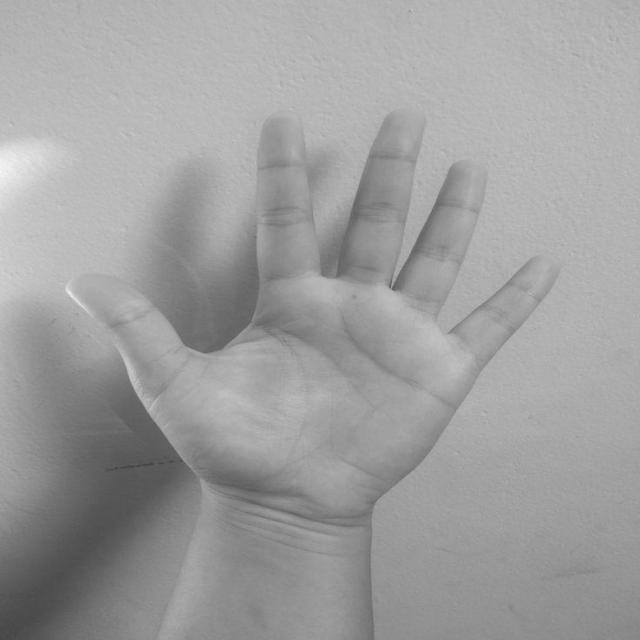stop: (57, 102, 566, 531)
